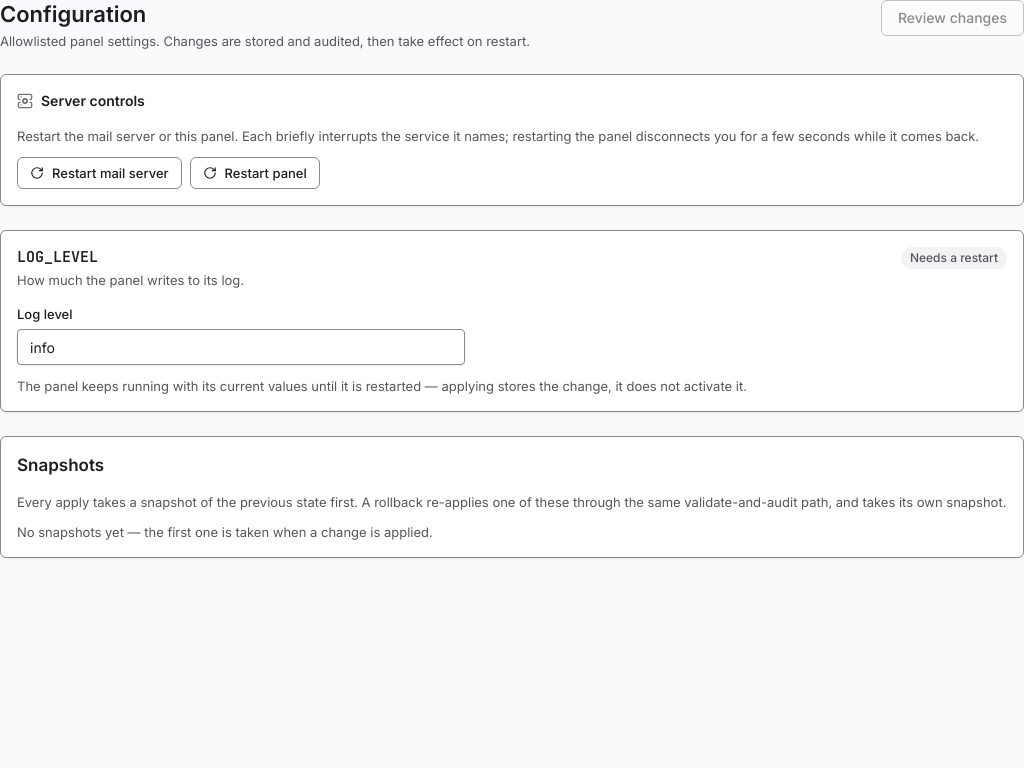
it: ConfigPage — impact is explained before confirming › shows a refused key with its reason instead of hiding it
Replace the text in the field labelled "Log level" with "debug" at (241, 347), box left=17, top=329, right=465, bottom=365
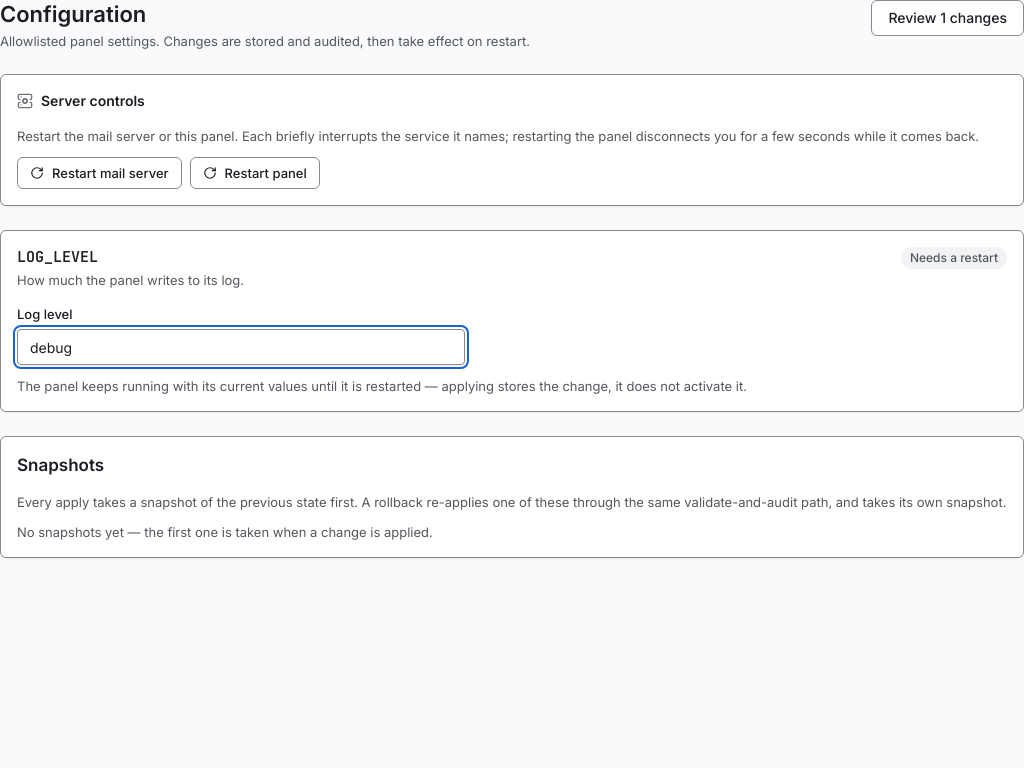
Click the button "Review 1 changes" at (948, 18), box left=871, top=0, right=1023, bottom=36
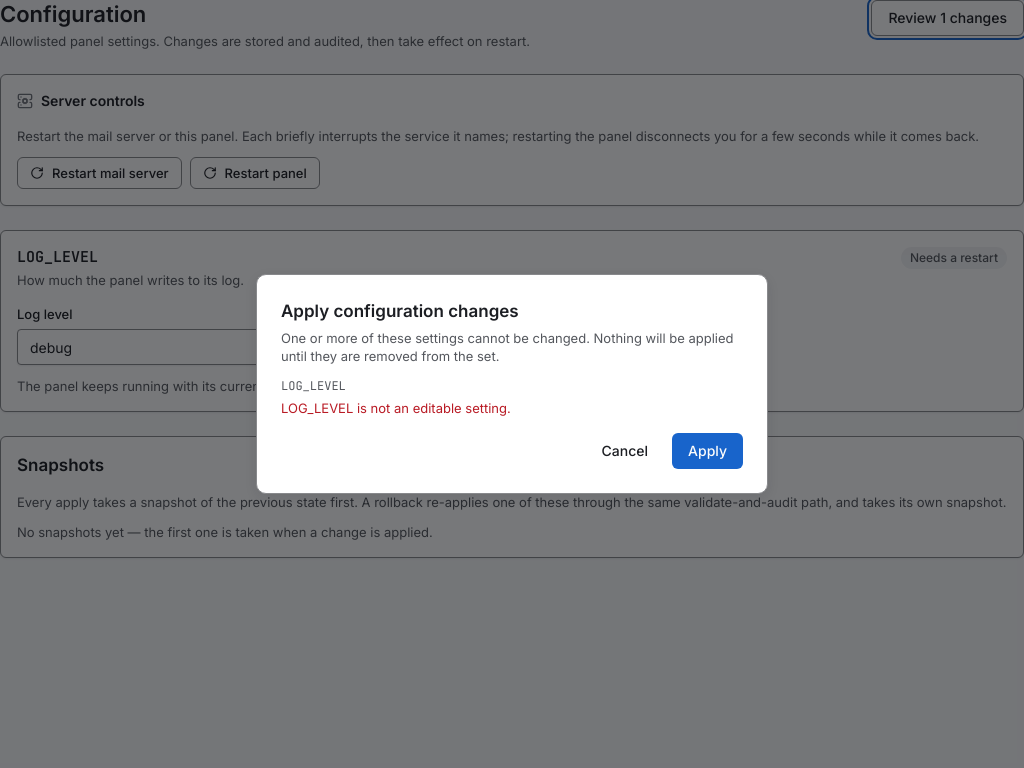
Now the text "LOG_LEVEL is not an editable setting." is shown, box left=281, top=400, right=511, bottom=416
Now the text "Nothing will be applied" is shown, box left=281, top=330, right=734, bottom=364
